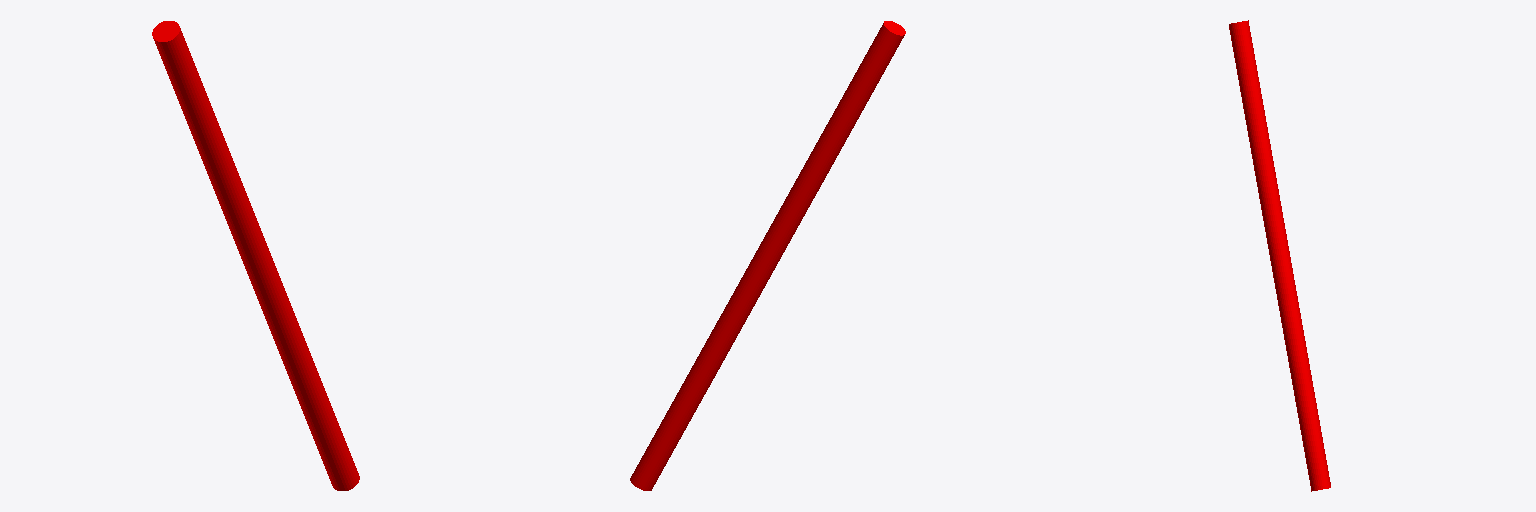
URDF robot description (tree_24.urdf):
<?xml version='1.0' encoding='utf-8'?>
<robot name="tree_24.urdf">
  <link name="branch_0">
    <inertial>
      <origin xyz="0.0 0.0 0.0" rpy="0.0 -0.0 0.0" />
      <mass value="1.0" />
      <inertia ixx="1.0" ixy="0.0" ixz="0.0" iyy="1.0" iyz="0.0" izz="1.0" />
    </inertial>
    <visual name="branch_0_visual">
      <geometry>
        <cylinder radius="0.06664560730124382" length="3.1099634793560997" />
      </geometry>
      <material name="semantic_material" />
      <origin xyz="-0.632633923344894 -0.2716425115533074 1.394257105301039" rpy="5.100779081155101e-17 0.458677369866854 -2.736015084362632" />
    </visual>
    <collision name="branch_0_collision">
      <geometry>
        <cylinder radius="0.06664560730124382" length="3.1099634793560997" />
      </geometry>
      <origin xyz="-0.632633923344894 -0.2716425115533074 1.394257105301039" rpy="5.100779081155101e-17 0.458677369866854 -2.736015084362632" />
    </collision>
  </link>
  <material name="semantic_material">
    <color rgba="1. 0. 0. 1." />
  </material>
</robot>

--- Facts derived from the render (not from the file) ---
The picture shows the robot from 3 angles, left to right: view 1: azimuth 30°, elevation 25°; view 2: azimuth 150°, elevation 25°; view 3: azimuth 270°, elevation 25°; orthographic projection.
Model tree_24.urdf with 1 links and 0 joints (none), rooted at branch_0, posed all joints at 0.
Links seen in each view (by area): view 1: branch_0; view 2: branch_0; view 3: branch_0.
Link boxes in pixels (x1,y1,x2,y2): branch_0: (152,21,359,490); branch_0: (630,21,905,490); branch_0: (1229,20,1330,491).
Size in the robot's own frame: 1.39 by 0.6745 by 2.85 metres.
Geometry: primitives only (box / cylinder / sphere), no mesh files.